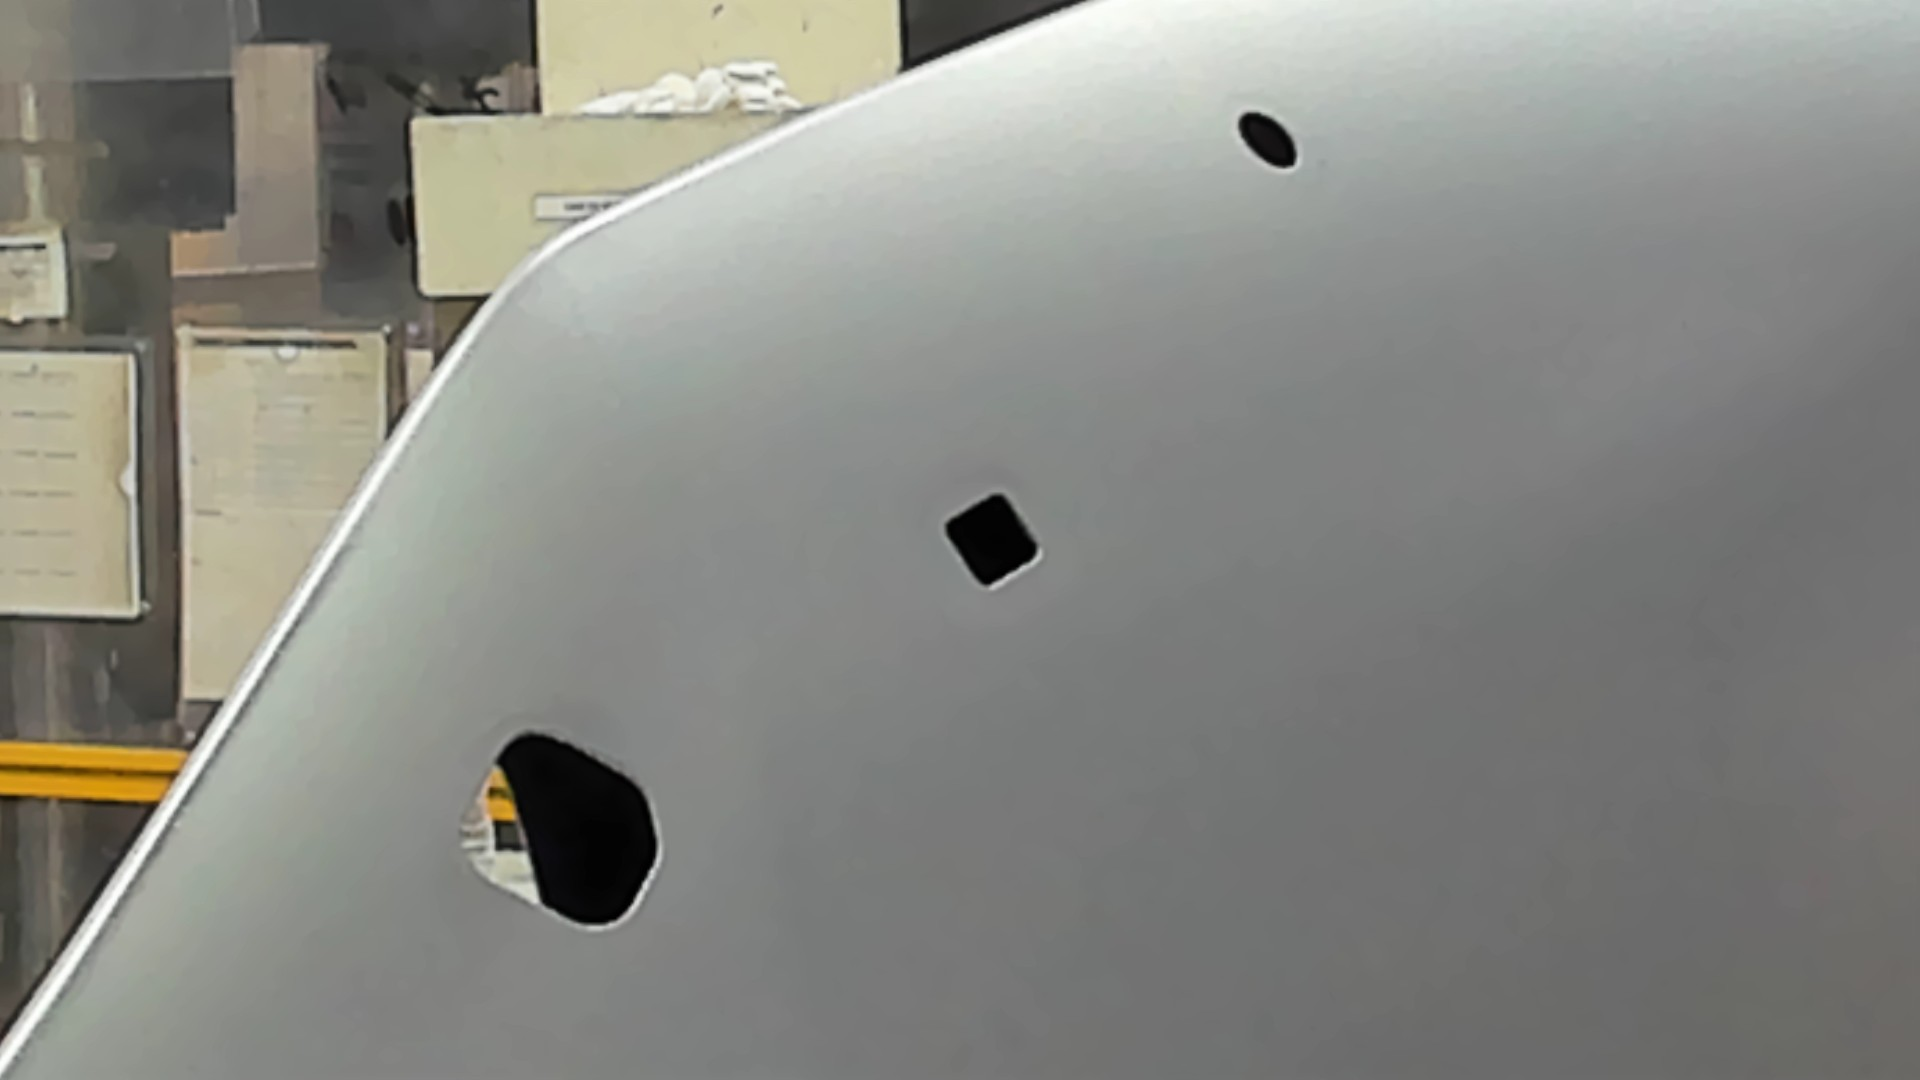chico: (1233, 105, 1305, 175)
grande: (450, 720, 666, 938)
mediano: (939, 487, 1048, 597)
